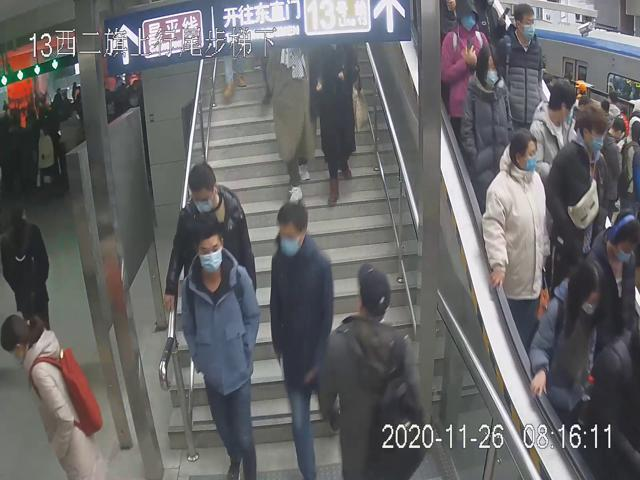person: (316, 264, 428, 480), (180, 215, 259, 480), (269, 201, 340, 477), (1, 313, 106, 480), (164, 158, 257, 339), (484, 128, 548, 336), (545, 100, 611, 287), (461, 43, 510, 180), (495, 3, 545, 127)
